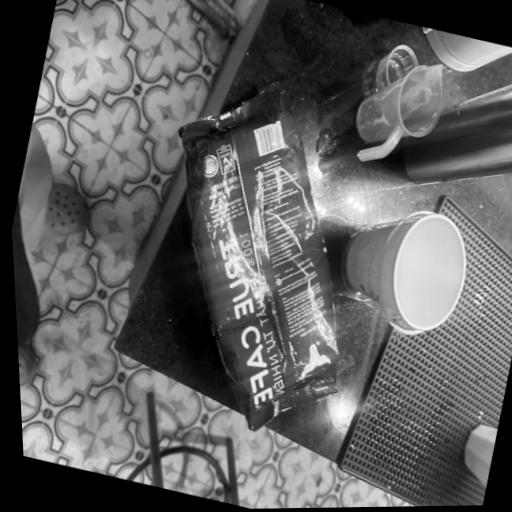cafe_hat: (179, 84, 337, 431)
